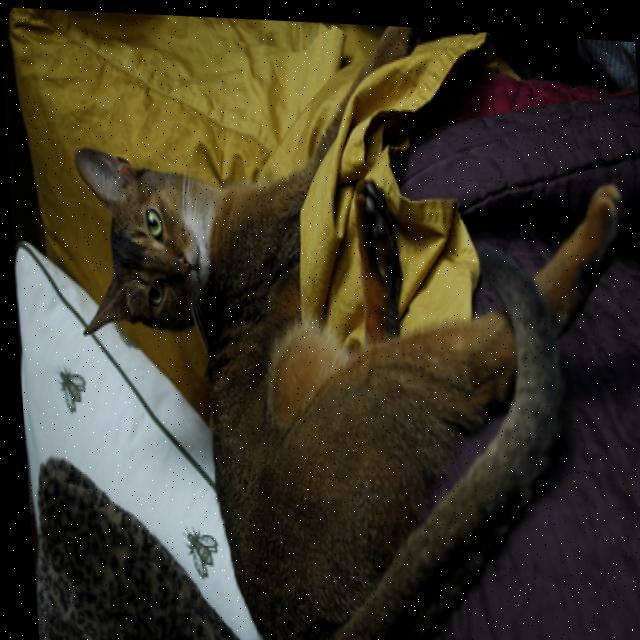Abyssinian: (53, 3, 640, 640)
